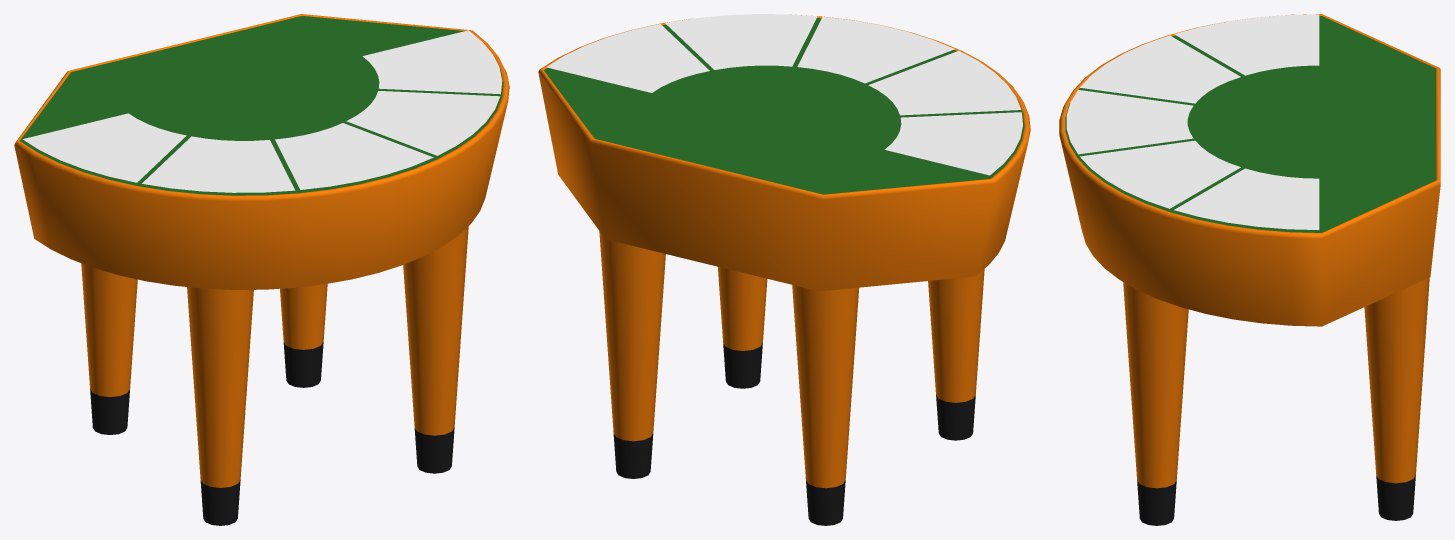
File: table.fbx
3 views of the same model, side by side, from view 1: azimuth 30°, elevation 25°; view 2: azimuth 150°, elevation 25°; view 3: azimuth 270°, elevation 25° (orthographic).
Parts seen in each view (by area): view 1: table, legs, bed, seat42, seat32, seat22, seat12, seat52, seat41, seat11, seat21, seat51 (+1 smaller); view 2: table, legs, bed, seat22, seat12, seat32, seat42, seat52, seat21, seat11, seat41, seat31 (+1 smaller); view 3: table, bed, legs, seat12, seat52, seat42, seat22, seat32, seat11, seat51, seat41, seat21 (+1 smaller).
Part boxes in pixels (box(x1,y1,x2,y2)): table: box(14, 14, 509, 289); legs: box(81, 226, 468, 525); bed: box(20, 16, 503, 195); seat42: box(142, 160, 295, 192); seat32: box(288, 140, 433, 189); seat22: box(392, 93, 500, 155); seat12: box(416, 30, 502, 94); seat52: box(22, 126, 161, 182); seat41: box(167, 136, 282, 166); seat11: box(362, 43, 441, 91); seat21: box(346, 91, 439, 138); seat51: box(75, 113, 186, 159); table: box(538, 14, 1030, 291); legs: box(599, 231, 984, 525); bed: box(544, 18, 1024, 194); seat22: box(665, 14, 817, 46); seat12: box(546, 24, 684, 79); seat32: box(810, 16, 954, 65); seat42: box(914, 50, 1021, 112); seat52: box(938, 112, 1022, 175); seat21: box(690, 39, 804, 69); seat11: box(599, 47, 709, 92); seat41: box(868, 68, 960, 115); seat31: box(797, 41, 909, 83); table: box(1059, 14, 1440, 326); bed: box(1065, 16, 1436, 232); legs: box(1123, 277, 1429, 525); seat12: box(1174, 189, 1319, 229); seat52: box(1174, 14, 1319, 54); seat42: box(1080, 35, 1204, 95); seat22: box(1080, 148, 1204, 208); seat32: box(1066, 90, 1135, 154); seat11: box(1209, 168, 1319, 204); seat51: box(1209, 39, 1319, 75); seat41: box(1137, 56, 1240, 103); seat21: box(1137, 140, 1240, 187).
Size of the model in its own units: 1.38 by 0.9993 by 1.
